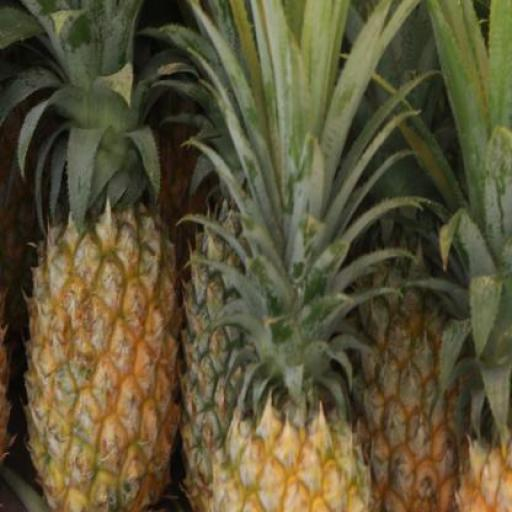------------------------------: (32, 204, 176, 511)
Pineapple - v8 v1: (216, 374, 376, 512)
